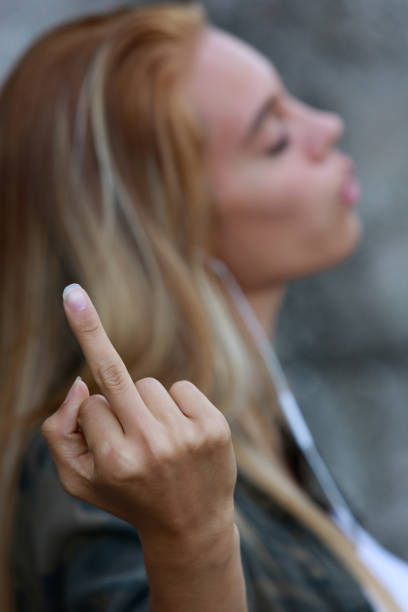insulting_gesture: (40, 284, 241, 529)
